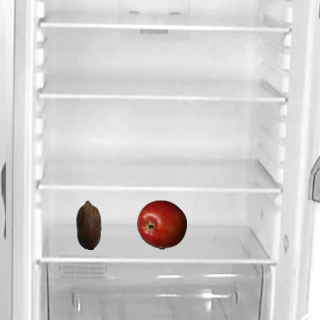Apple Braeburn: (136, 199, 186, 249)
Nut Pecan: (63, 199, 113, 249)
